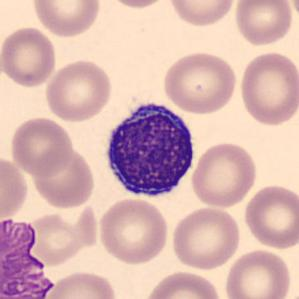Lymphocyte: (98, 95, 199, 202)
RBC: (17, 202, 100, 268), (160, 48, 239, 115), (96, 196, 170, 265), (168, 205, 242, 271), (189, 140, 259, 209), (237, 49, 298, 128), (43, 57, 115, 122), (31, 146, 98, 209), (8, 115, 75, 177), (242, 182, 298, 251), (0, 24, 58, 89), (222, 247, 293, 299), (232, 0, 295, 47), (29, 0, 103, 39), (141, 269, 223, 299), (40, 268, 119, 299), (0, 154, 30, 224), (167, 0, 239, 28), (103, 0, 172, 10), (287, 0, 299, 26)
